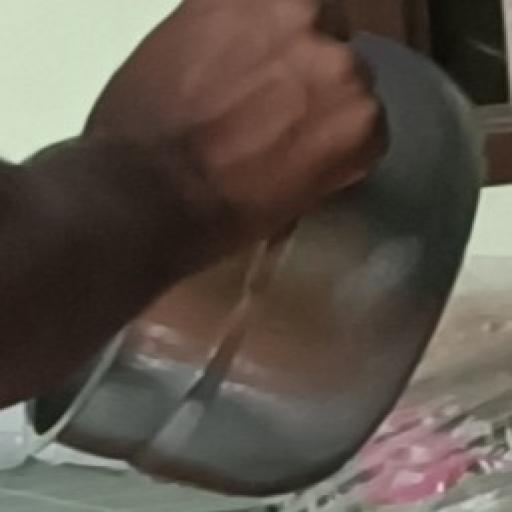vessel: (30, 36, 480, 492)
